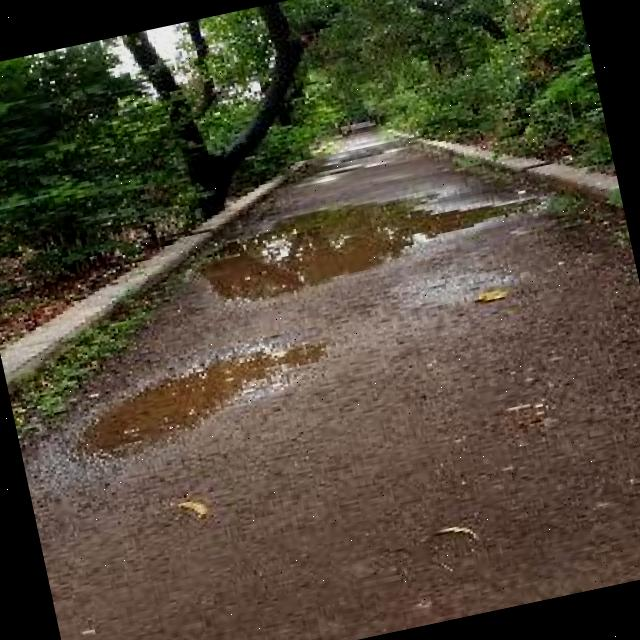stagnation: (42, 325, 343, 478), (180, 178, 538, 306)
